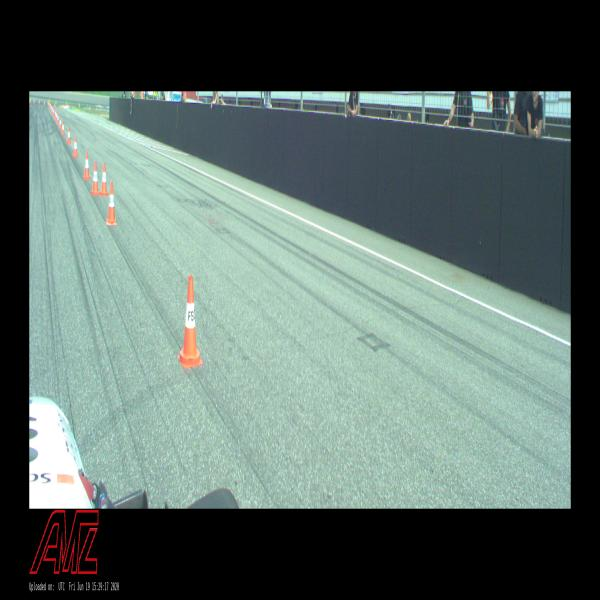orange_cone: (177, 275, 203, 369), (105, 181, 117, 225), (90, 162, 100, 195), (100, 163, 108, 196), (83, 152, 90, 179), (73, 136, 78, 157), (67, 127, 71, 144), (61, 121, 65, 135), (59, 118, 62, 128), (57, 114, 59, 124), (56, 112, 57, 120), (55, 110, 56, 118)
